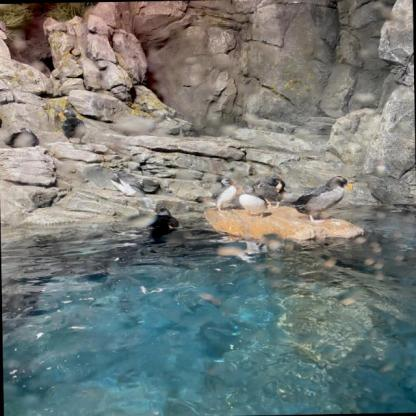puffin: (291, 174, 354, 224), (107, 169, 159, 200), (201, 178, 237, 212), (146, 207, 180, 238), (58, 107, 85, 145), (237, 185, 267, 219), (256, 176, 286, 209), (3, 125, 37, 151)
